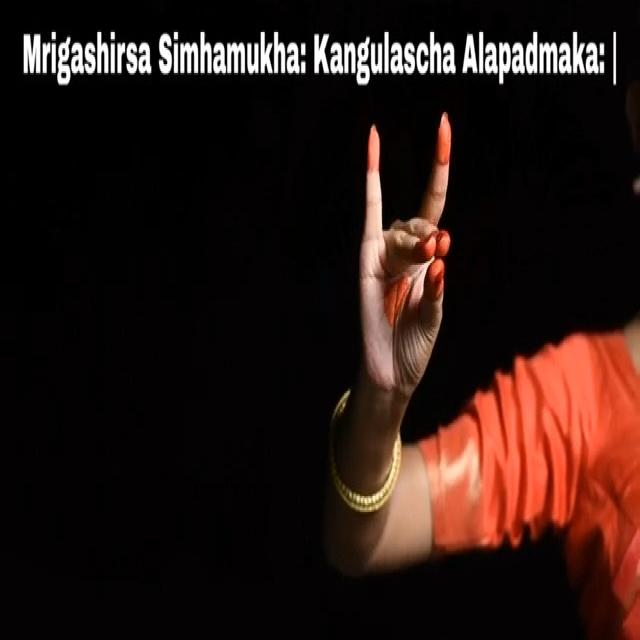Simhamukha: (346, 110, 476, 406)
bangle: (327, 378, 408, 542)
text: (16, 20, 622, 96)
